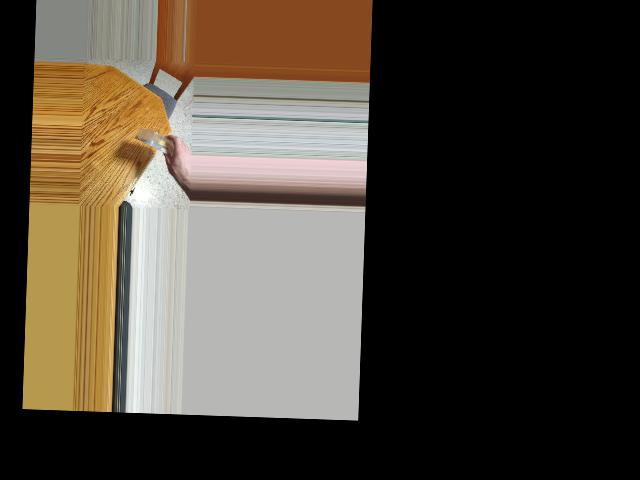cheese: (132, 128, 180, 154)
